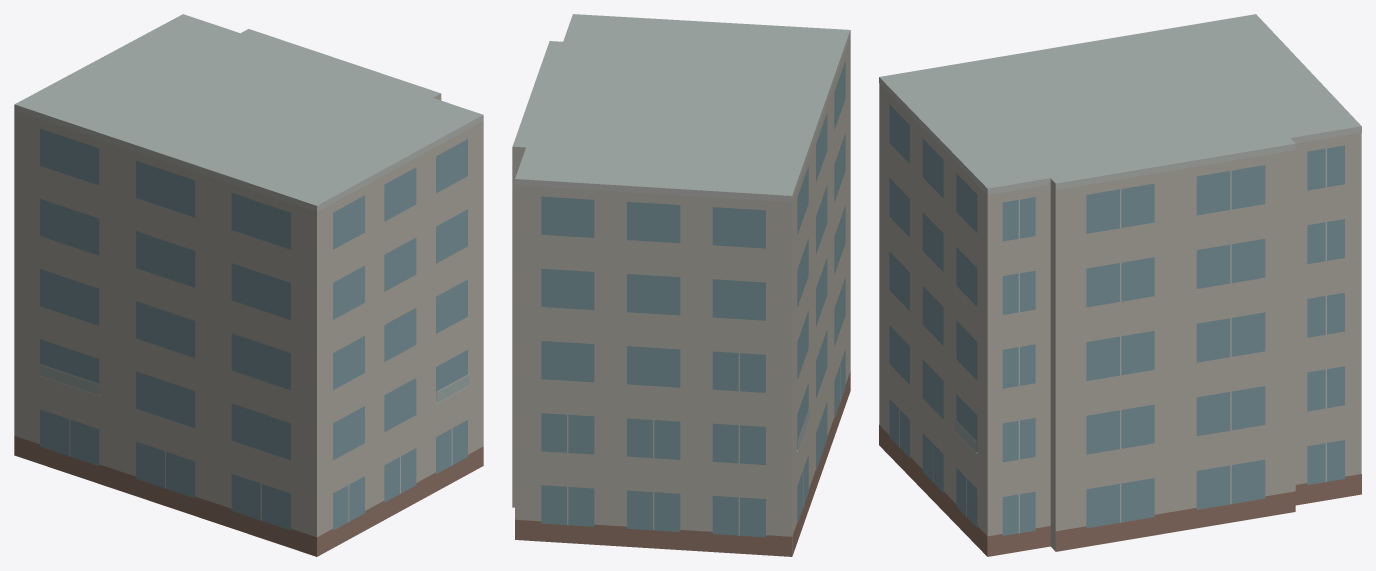
Rendered from survey-upis-32844429.glb.
3 views of the same model, side by side, from view 1: azimuth 30°, elevation 25°; view 2: azimuth 150°, elevation 25°; view 3: azimuth 270°, elevation 25° (orthographic). The views are drawn at different scales.
Parts seen in each view (by area): view 1: survey-upis-32844429.tmp; view 2: survey-upis-32844429.tmp; view 3: survey-upis-32844429.tmp.
Part boxes in pixels (box(x1,y1,x2,y2)): survey-upis-32844429.tmp: box(14, 14, 483, 556); survey-upis-32844429.tmp: box(512, 14, 850, 556); survey-upis-32844429.tmp: box(879, 14, 1361, 556).
Size of the model in its own units: 14.25 by 14 by 16.64.
